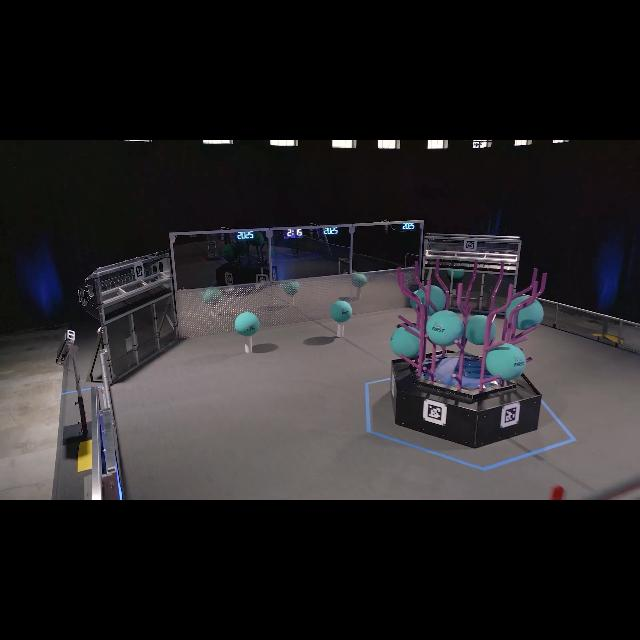ALGAE: (486, 342, 526, 380), (426, 310, 464, 346), (506, 296, 544, 330), (416, 284, 446, 316), (390, 327, 420, 358), (465, 315, 495, 345), (234, 312, 260, 336), (330, 300, 352, 322)
CORAL: (468, 140, 618, 146), (223, 140, 301, 146), (375, 140, 401, 148), (428, 140, 448, 148), (334, 140, 358, 146), (338, 321, 344, 337)
